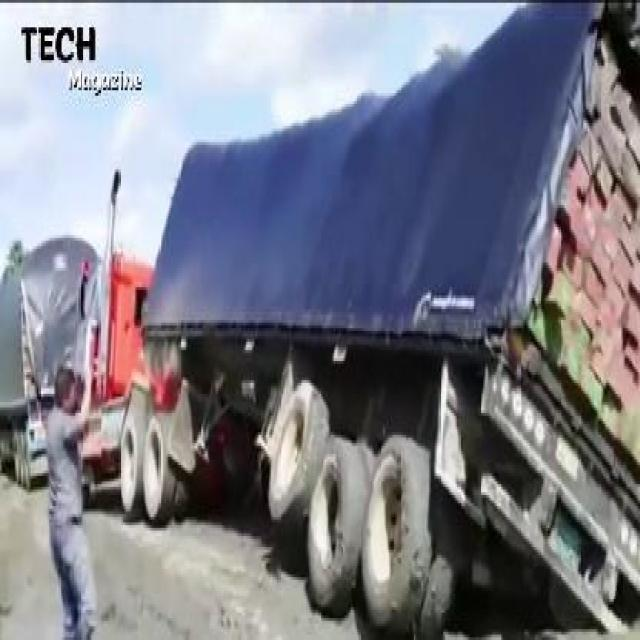accident: (72, 0, 638, 637)
